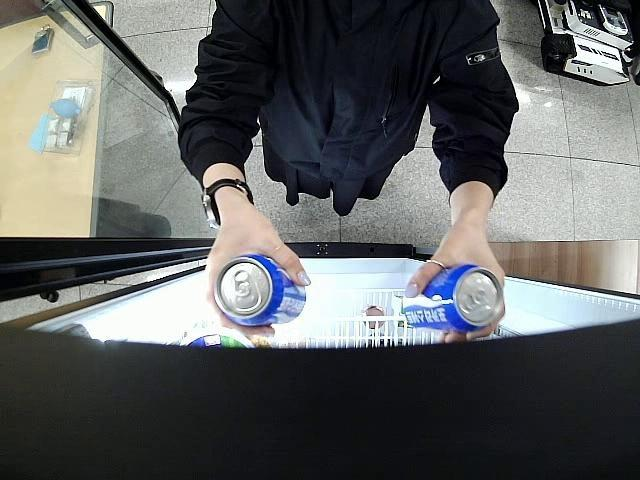13_pocariSweat: (402, 262, 503, 332), (214, 252, 307, 328)
